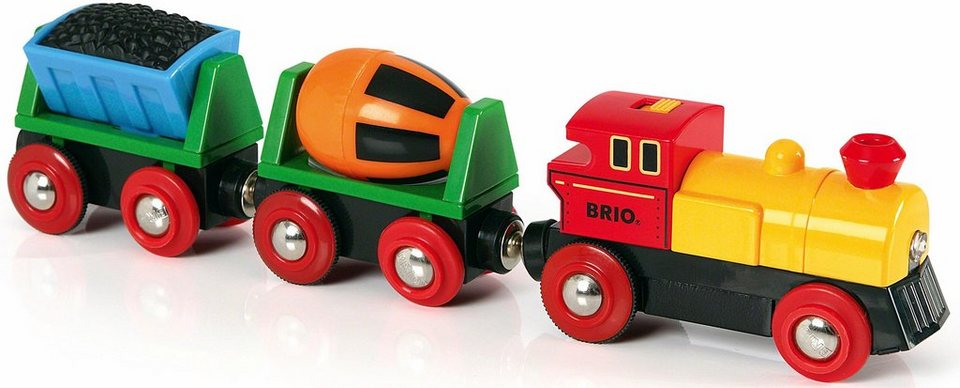brio: (534, 84, 954, 388)
